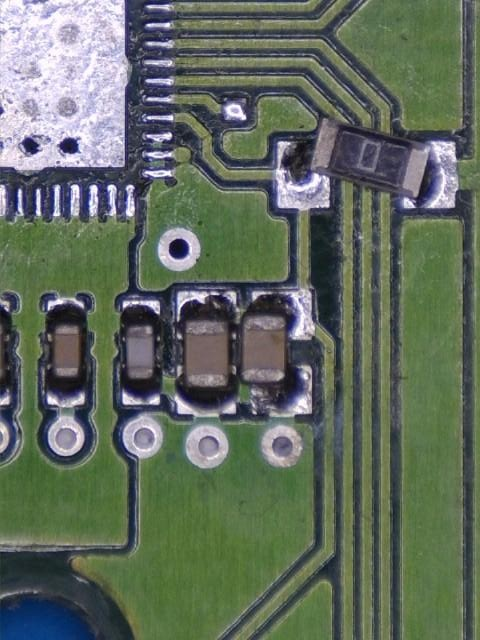pcb_defect: (275, 115, 458, 211), (241, 290, 313, 416)
